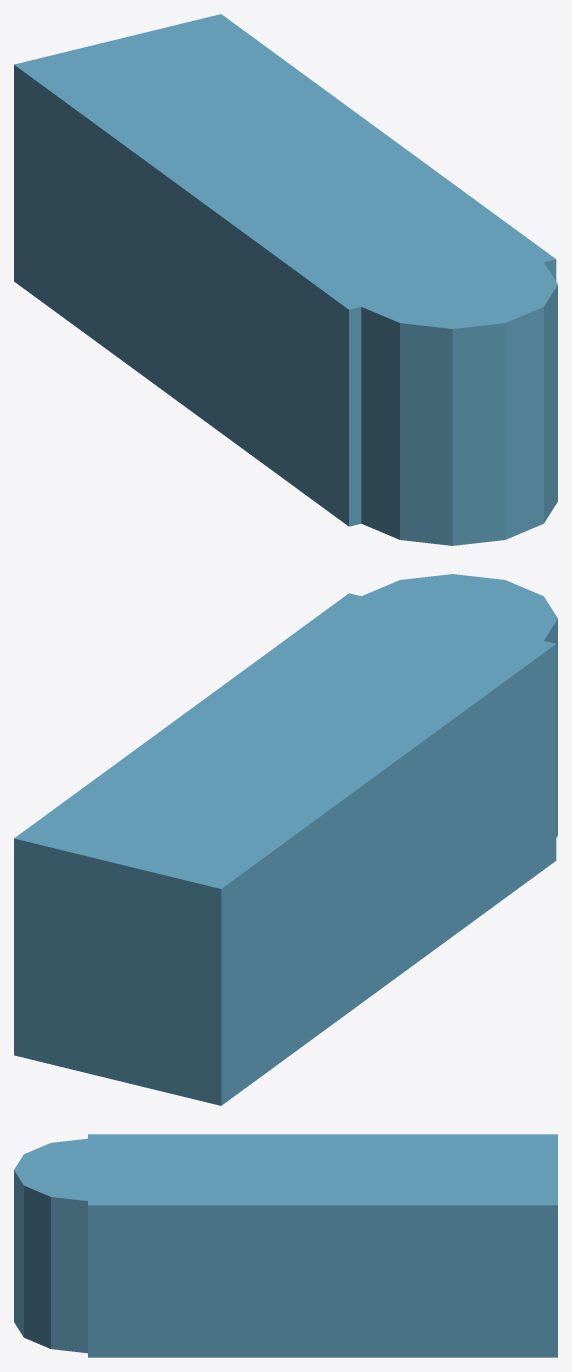
File: mailbox.glb
3 renders of one model, top to bottom at view 1: azimuth 30°, elevation 25°; view 2: azimuth 150°, elevation 25°; view 3: azimuth 270°, elevation 25°, orthographic. The views are drawn at different scales.
Parts seen in each view (by area): view 1: world; view 2: world; view 3: world.
Part boxes in pixels (x1=…): world: x1=14, y1=14, x2=557, y2=545; world: x1=14, y1=574, x2=557, y2=1105; world: x1=14, y1=1134, x2=557, y2=1357.
Bounding box in the file's own units: 0.5 × 0.5 × 1.62.
